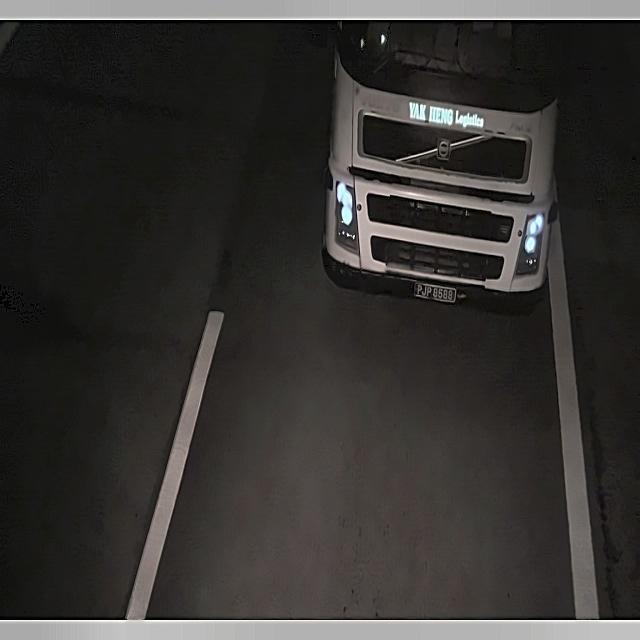car: (413, 275, 457, 311)
